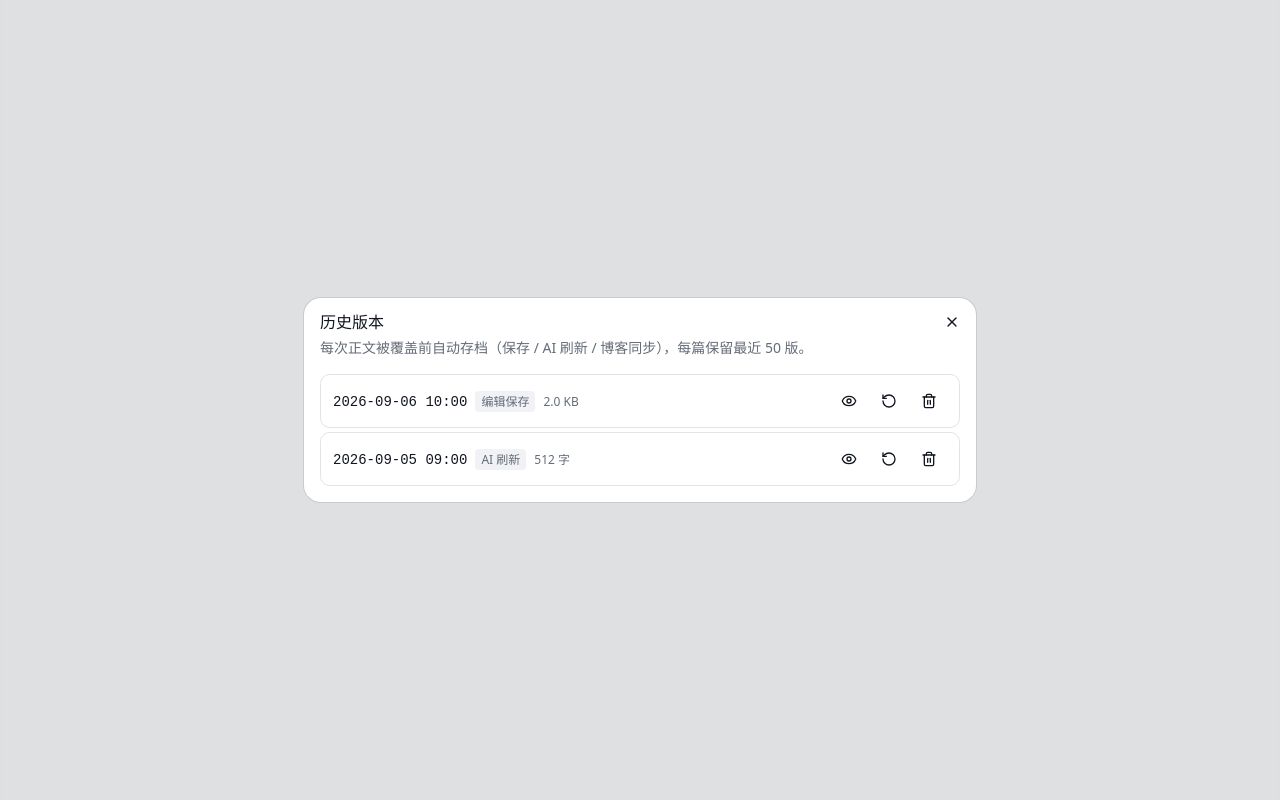
Test case: VersionHistoryDialog › 预览：拉取版本详情并显示正文
Expected: the number of elements with test id "version-row" is 2, [320,374,960,428]; [320,432,960,486]
Click the button with test id "version-preview-v1" at (849, 401), box [831,383,867,419]
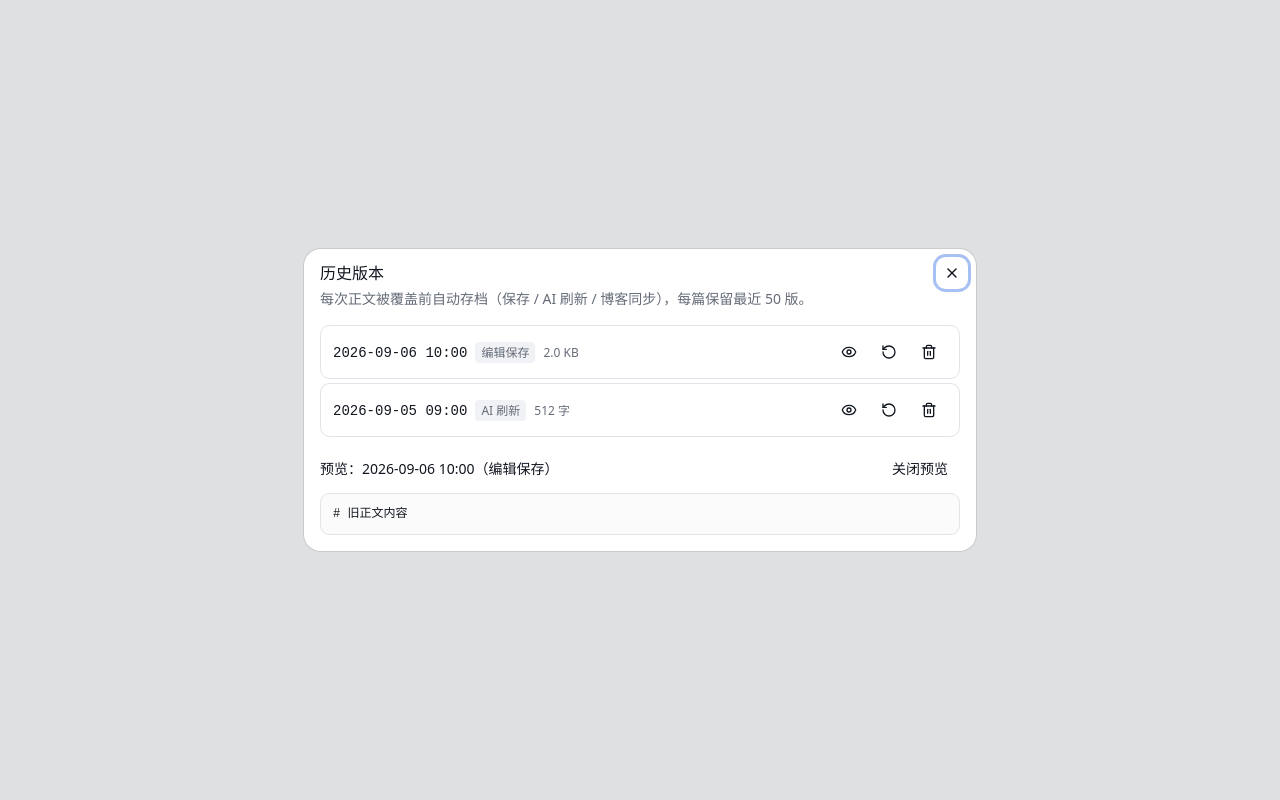
Result: the element with test id "version-preview" is shown at [320,453,960,535]
Result: the text "# 旧正文内容" is shown at [320,493,960,535]
